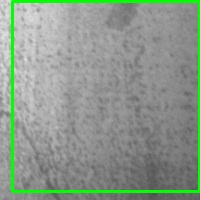pitted_surface: (12, 1, 199, 191)
